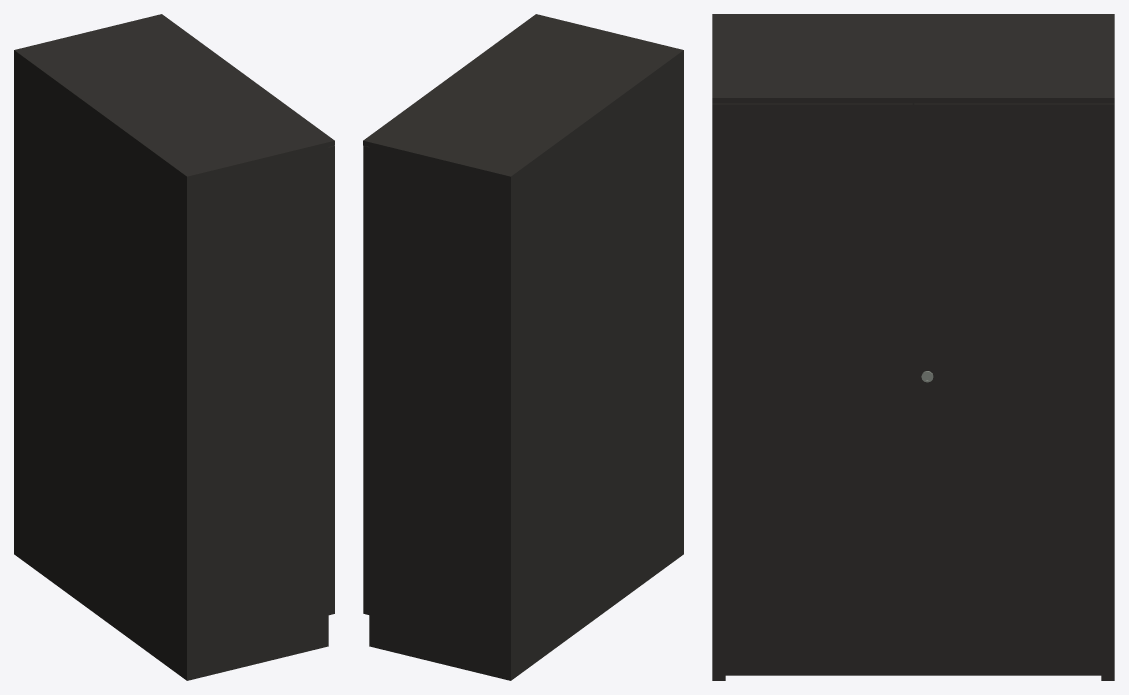
The model's file is SM_Prop_ToolCabinet.obj.
3 renders of one model, left to right at view 1: azimuth 30°, elevation 25°; view 2: azimuth 150°, elevation 25°; view 3: azimuth 270°, elevation 25°, orthographic. The views are drawn at different scales.
Visible parts, largest first — view 1: SM_Prop_ToolCabinet_Mat_SwatchOverlay_Farm_Main_01_Inst; view 2: SM_Prop_ToolCabinet_Mat_SwatchOverlay_Farm_Main_01_Inst; view 3: SM_Prop_ToolCabinet_Mat_SwatchOverlay_Farm_Main_01_Inst.
Part boxes in pixels (x1,y1,x2,y2): SM_Prop_ToolCabinet_Mat_SwatchOverlay_Farm_Main_01_Inst: (14, 14, 334, 680); SM_Prop_ToolCabinet_Mat_SwatchOverlay_Farm_Main_01_Inst: (363, 14, 683, 680); SM_Prop_ToolCabinet_Mat_SwatchOverlay_Farm_Main_01_Inst: (712, 14, 1114, 680).
Bounding box in the file's own units: 1.11 × 3.58 × 2.23.
Materials: 1 (1 with a texture image).
